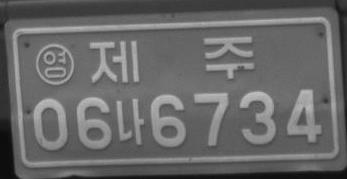0: (31, 96, 69, 152)
3: (238, 90, 277, 145)
4: (286, 87, 323, 144)
6: (74, 95, 113, 151), (149, 92, 187, 149)
7: (192, 91, 229, 146)
나: (114, 97, 146, 145)
영: (34, 42, 75, 85)
제주_D: (89, 34, 255, 84)
